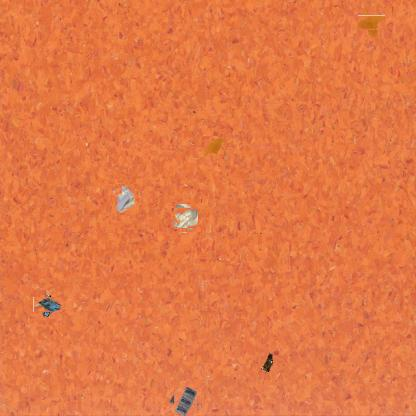dirty: (171, 388, 199, 416), (114, 185, 140, 211), (172, 206, 196, 230), (37, 293, 59, 316), (260, 352, 274, 372)
liquid: (202, 135, 224, 157), (361, 12, 382, 34)
